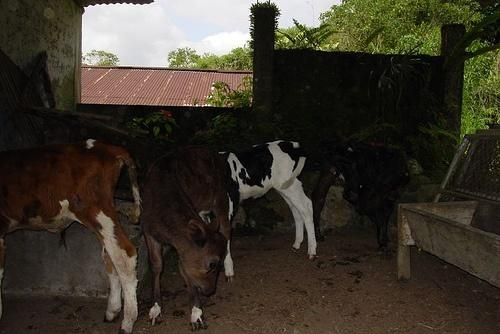cow: (1, 141, 139, 333), (150, 142, 238, 330), (220, 141, 316, 282), (314, 139, 412, 246)
